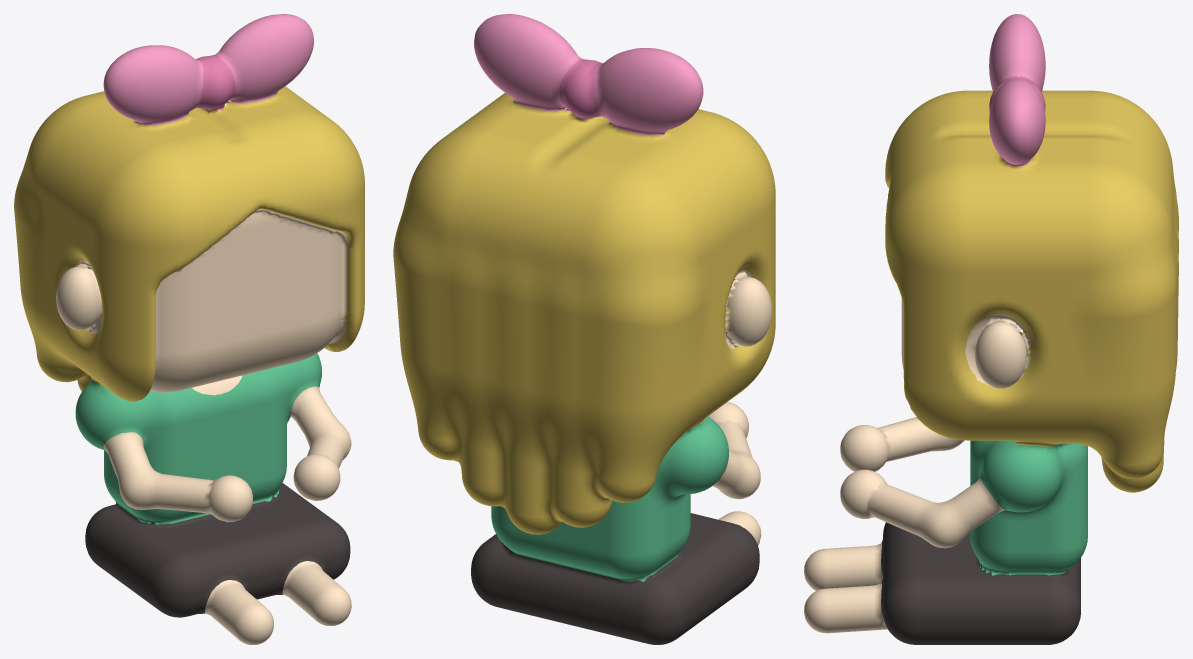
Rendered from girl.glb.
The picture shows the model from 3 angles, left to right: view 1: azimuth 30°, elevation 25°; view 2: azimuth 150°, elevation 25°; view 3: azimuth 270°, elevation 25°; orthographic projection. The views are drawn at different scales.
Visible parts, largest first — view 1: girl; view 2: girl; view 3: girl.
Part boxes in pixels (x1=…): girl: x1=14, y1=14, x2=364, y2=644; girl: x1=393, y1=14, x2=775, y2=644; girl: x1=804, y1=14, x2=1178, y2=644.
Size of the model in its own units: 1.54 by 2.63 by 1.59.
